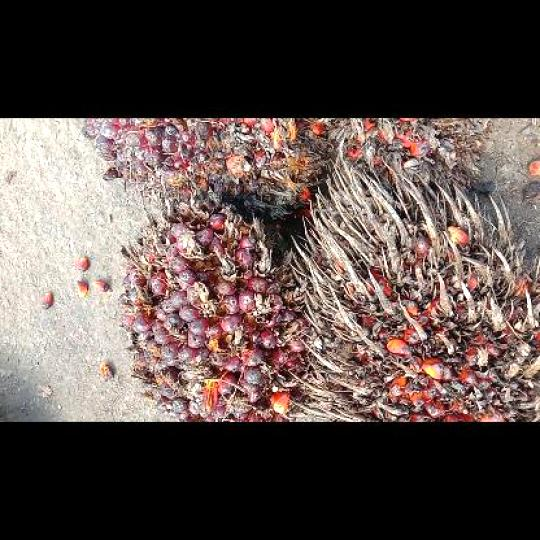masak: (120, 200, 311, 420), (82, 118, 330, 214)
terlalu masak: (287, 161, 539, 421), (313, 118, 487, 191)
